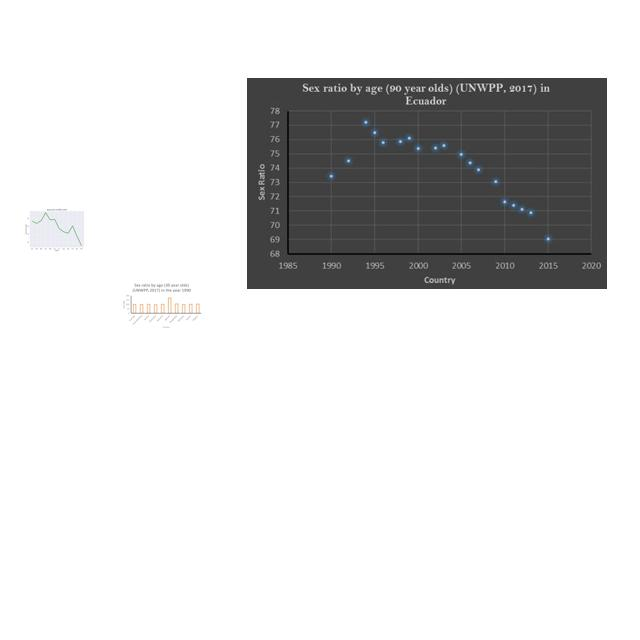Graph: (247, 78, 607, 289), (121, 282, 202, 330), (21, 205, 91, 253)
